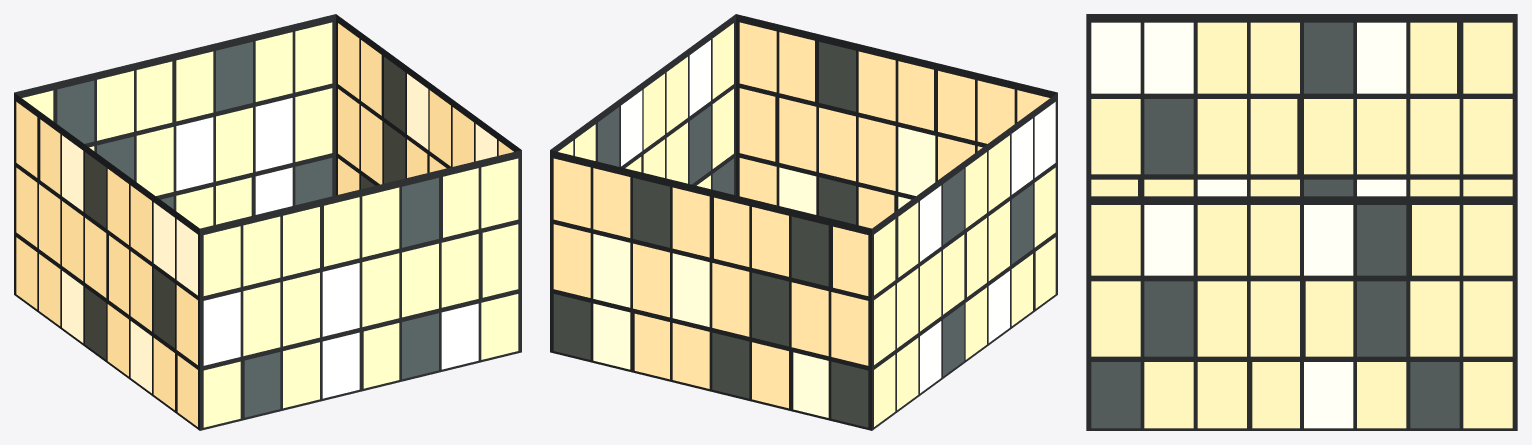
The model's file is SM_Bld_OfficeSquare_02.fbx.
3 views of the same model, side by side, from view 1: azimuth 30°, elevation 25°; view 2: azimuth 150°, elevation 25°; view 3: azimuth 270°, elevation 25° (orthographic). The views are drawn at different scales.
Parts seen in each view (by area): view 1: SM_Bld_OfficeSquare_02; view 2: SM_Bld_OfficeSquare_02; view 3: SM_Bld_OfficeSquare_02.
Boxes of the visible parts, left/top/right/bottom form: SM_Bld_OfficeSquare_02: left=14, top=14, right=521, bottom=430; SM_Bld_OfficeSquare_02: left=550, top=14, right=1057, bottom=430; SM_Bld_OfficeSquare_02: left=1086, top=14, right=1517, bottom=430.
Bounding box in the file's own units: 1500 × 901 × 1500.
